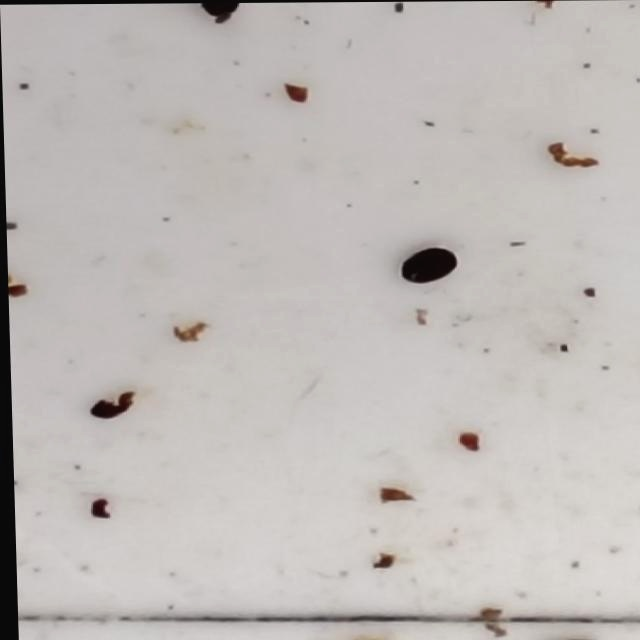varroa: (396, 245, 458, 287)
